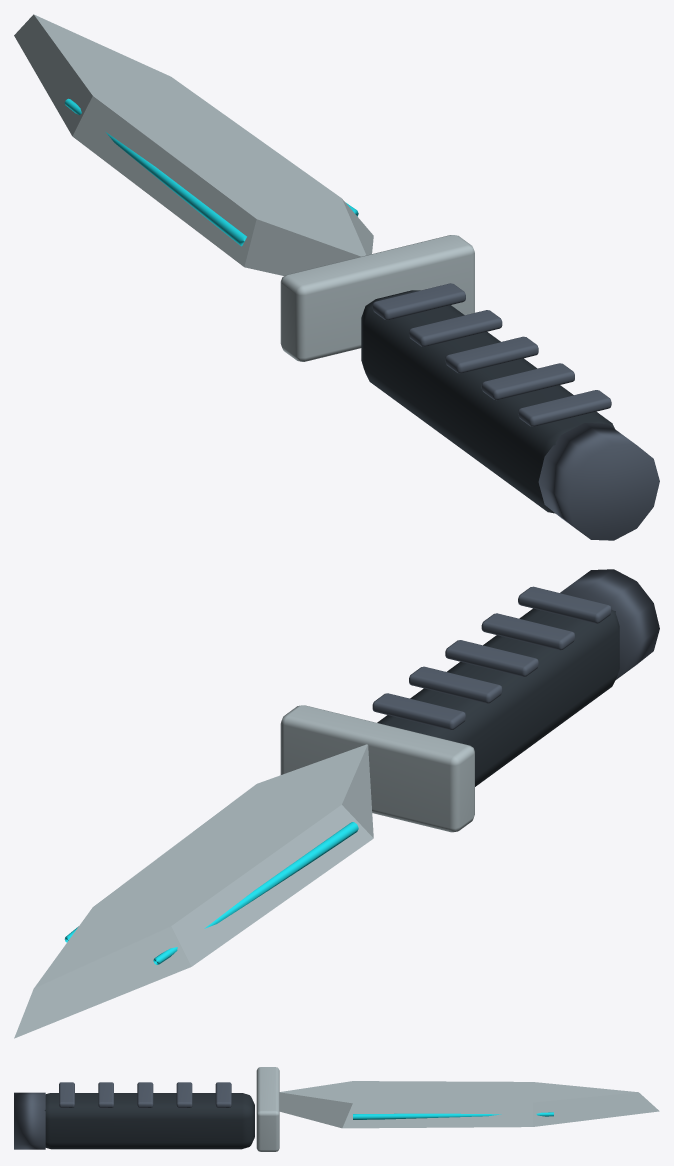
Rendered from knife.glb.
The picture shows the model from 3 angles, top to bottom: view 1: azimuth 30°, elevation 25°; view 2: azimuth 150°, elevation 25°; view 3: azimuth 270°, elevation 25°; orthographic projection. The views are drawn at different scales.
Visible parts, largest first — view 1: Ground combat blade, Wrapped knife handle, Crossguard, Pommel loop, Handle wrap, Handle wrap.002, Handle wrap.001, Handle wrap.003, Handle wrap.004, Colored cutting edge; view 2: Ground combat blade, Wrapped knife handle, Crossguard, Pommel loop, Handle wrap, Handle wrap.001, Handle wrap.002, Handle wrap.004, Handle wrap.003, Colored cutting edge; view 3: Ground combat blade, Wrapped knife handle, Crossguard, Pommel loop, Colored cutting edge.001, Handle wrap, Handle wrap.001, Handle wrap.002, Handle wrap.003, Handle wrap.004.
Part boxes in pixels (left/top/right/bottom): Ground combat blade: left=14, top=14, right=373, bottom=275; Wrapped knife handle: left=361, top=290, right=614, bottom=513; Crossguard: left=280, top=235, right=474, bottom=361; Pommel loop: left=538, top=423, right=659, bottom=540; Handle wrap: left=372, top=283, right=465, bottom=320; Handle wrap.002: left=445, top=336, right=538, bottom=373; Handle wrap.001: left=409, top=310, right=502, bottom=346; Handle wrap.003: left=481, top=363, right=574, bottom=400; Handle wrap.004: left=518, top=390, right=611, bottom=426; Colored cutting edge: left=64, top=98, right=246, bottom=246; Ground combat blade: left=14, top=744, right=373, bottom=1038; Wrapped knife handle: left=377, top=608, right=619, bottom=786; Crossguard: left=280, top=705, right=474, bottom=832; Pommel loop: left=560, top=569, right=659, bottom=679; Handle wrap: left=372, top=693, right=465, bottom=730; Handle wrap.001: left=409, top=666, right=502, bottom=703; Handle wrap.002: left=445, top=640, right=538, bottom=676; Handle wrap.004: left=518, top=586, right=611, bottom=623; Handle wrap.003: left=481, top=613, right=574, bottom=650; Colored cutting edge: left=153, top=822, right=358, bottom=964; Ground combat blade: left=279, top=1081, right=659, bottom=1128; Wrapped knife handle: left=44, top=1093, right=254, bottom=1149; Crossguard: left=256, top=1067, right=279, bottom=1151; Pommel loop: left=14, top=1092, right=45, bottom=1149; Colored cutting edge.001: left=353, top=1112, right=553, bottom=1119; Handle wrap: left=215, top=1082, right=231, bottom=1107; Handle wrap.001: left=176, top=1082, right=192, bottom=1107; Handle wrap.002: left=137, top=1082, right=153, bottom=1107; Handle wrap.003: left=98, top=1082, right=113, bottom=1107; Handle wrap.004: left=59, top=1082, right=74, bottom=1107.
Size of the model in its own units: 0.105 by 0.0605 by 0.61.
